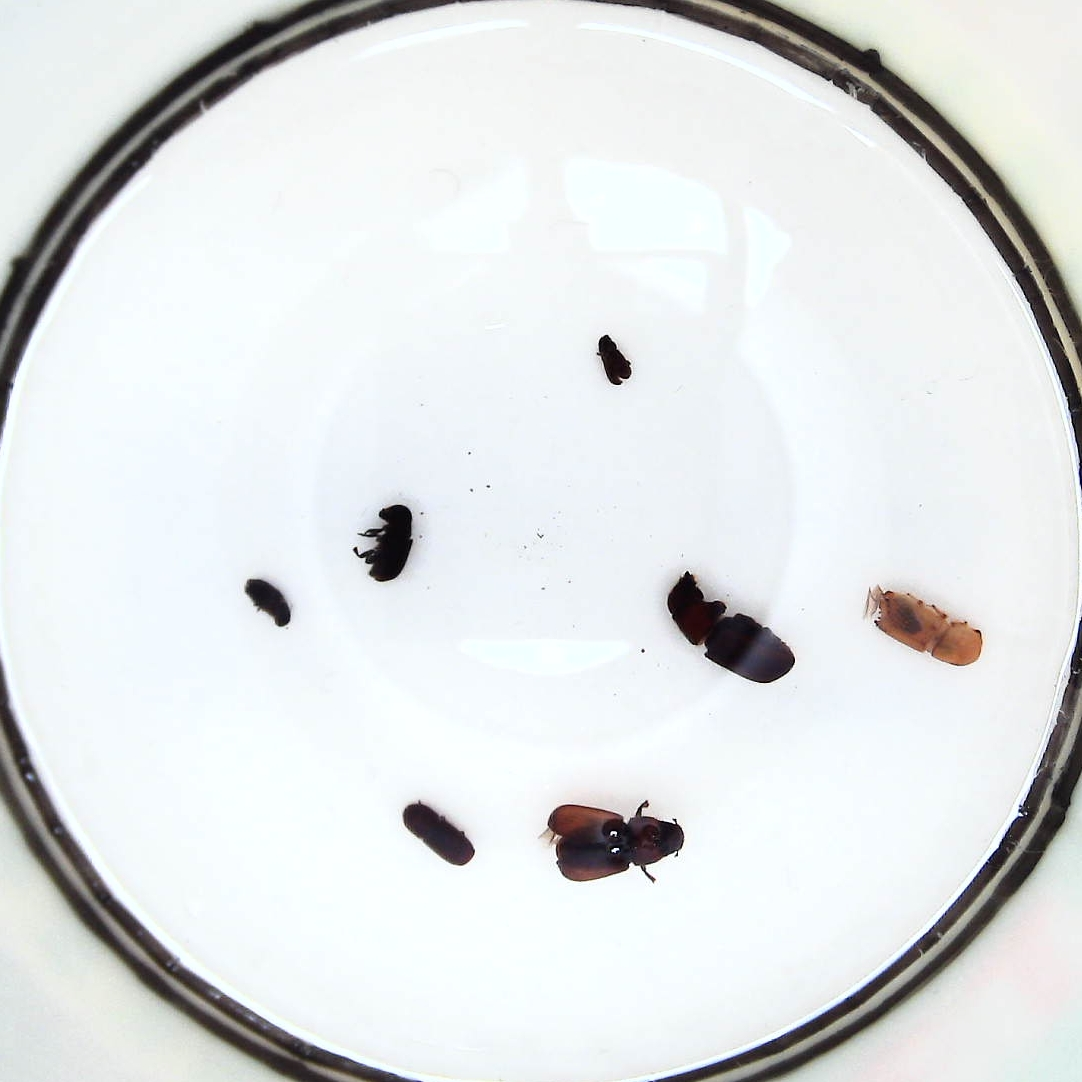Boerner: (873, 589, 982, 666)
Leconte: (667, 569, 796, 683), (547, 804, 684, 881)
acuminatus: (244, 579, 291, 627)
armandi: (366, 504, 412, 582)
coleoptera: (598, 334, 632, 385)
linnaeus: (402, 804, 474, 867)
